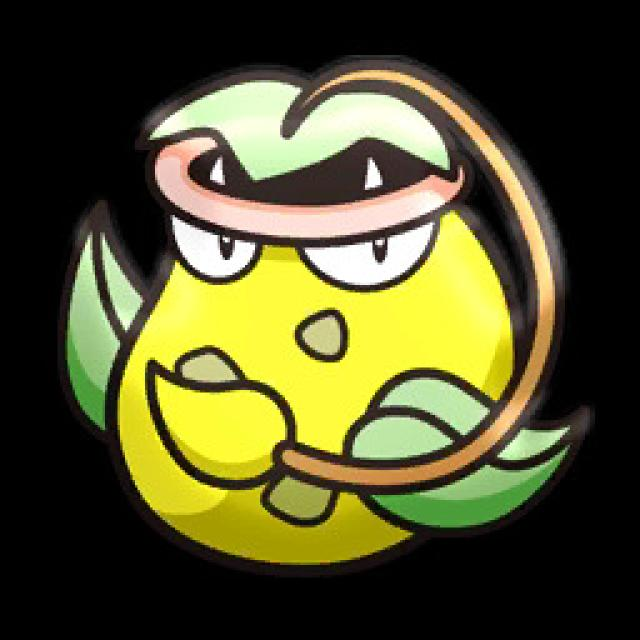Victreebel: (108, 85, 521, 556)
